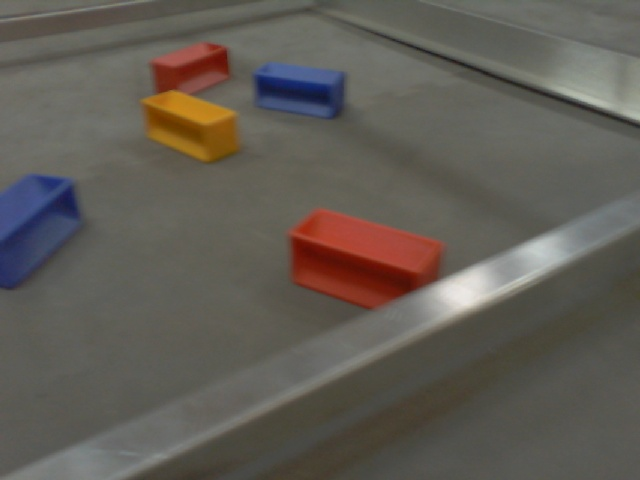BlueSample: (1, 168, 84, 292), (250, 57, 349, 122)
RedSample: (280, 207, 446, 314), (146, 43, 234, 93)
YellowSample: (137, 85, 246, 165)
